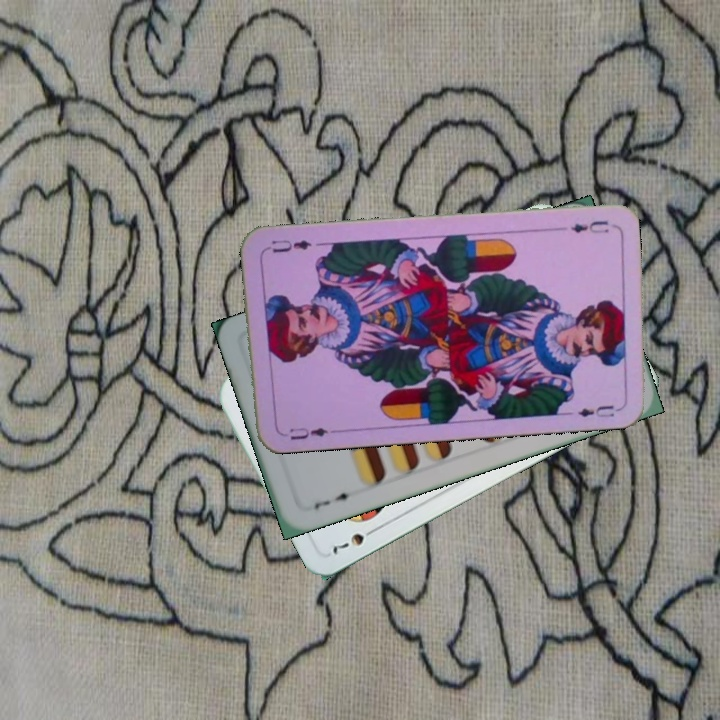E7: (310, 488, 358, 512)
EU: (278, 423, 337, 443), (567, 216, 611, 236)
S7: (328, 522, 381, 557)
